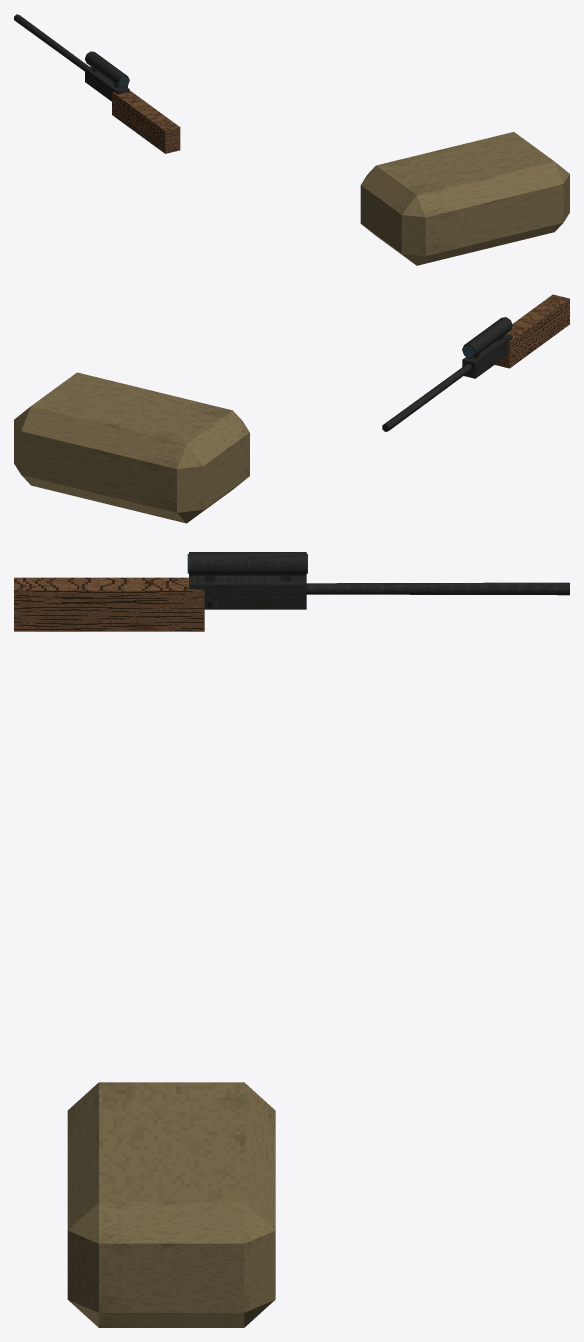
The model's file is openseason.glb.
3 views of the same model, one above another, from view 1: azimuth 30°, elevation 25°; view 2: azimuth 150°, elevation 25°; view 3: azimuth 270°, elevation 25° (orthographic). The views are drawn at different scales.
Parts seen in each view (by area): view 1: sandbag, rifle; view 2: sandbag, rifle; view 3: sandbag, rifle.
Boxes of the visible parts, x1=… form: sandbag: x1=360, y1=132, x2=569, y2=265; rifle: x1=14, y1=14, x2=180, y2=153; sandbag: x1=14, y1=372, x2=249, y2=523; rifle: x1=382, y1=294, x2=569, y2=431; sandbag: x1=67, y1=1082, x2=275, y2=1327; rifle: x1=14, y1=552, x2=569, y2=631.
Size of the model in its own units: 2.55 by 1.35 by 1.6.
Materials: 4 (3 with a texture image).
